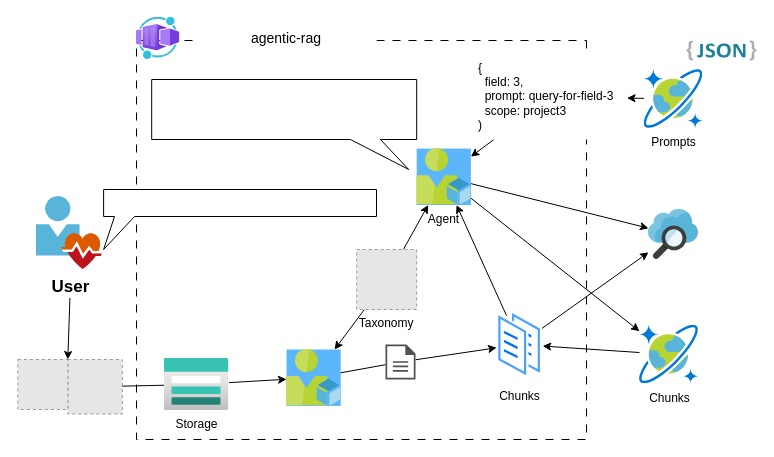
The diagram is 774 pixels wide and 457 high, and some of its shapes have lost their labels. Grey dashed boxes stand in for pictures. The shapes that lost their labels are listed below. From the top down, each one's centre as x and y in pixels, then its label:
At (x=284, y=124): "This is the response, sources and process use to generate the answer".
At (x=239, y=219): "Fill in field 3".
At (x=673, y=234): "AI Search".
At (x=313, y=377): "ingestion".
At (x=400, y=361): "Markdown".
